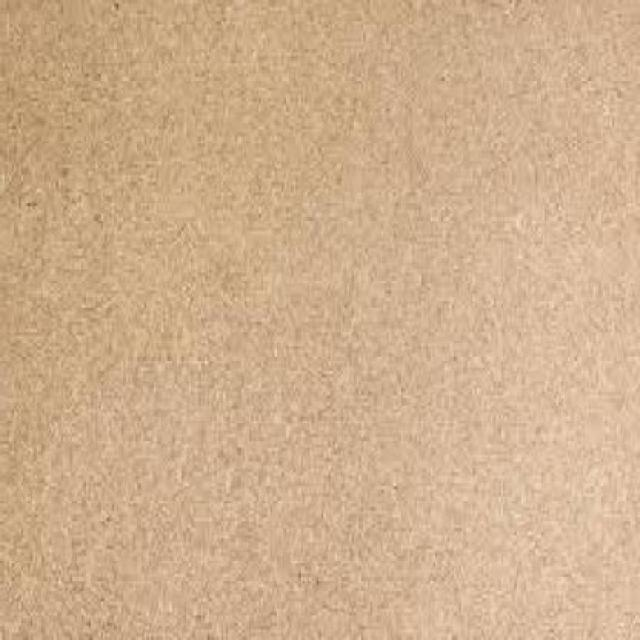CARDBOARD: (1, 3, 638, 639)
